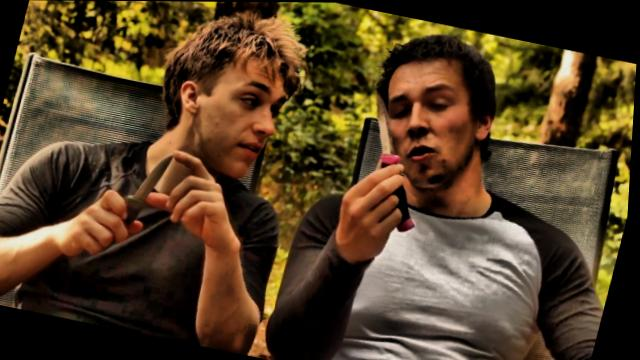knife: (342, 77, 436, 203), (100, 137, 186, 239)
